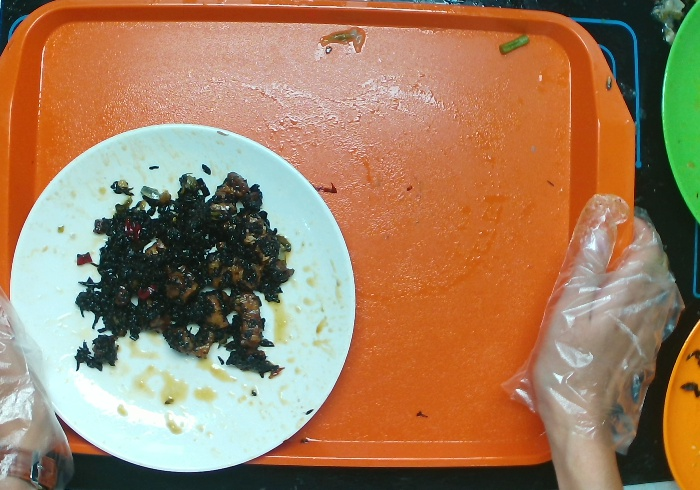HZYJPL-Bai_Se_Yuan_Pan: (11, 122, 357, 475)
